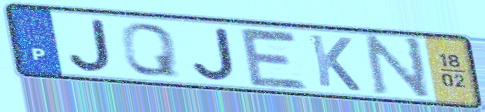E: (236, 25, 312, 92)
J: (191, 26, 240, 83), (66, 17, 115, 74)
K: (307, 32, 364, 94)
N: (364, 33, 433, 103)
Q: (118, 21, 182, 79)
